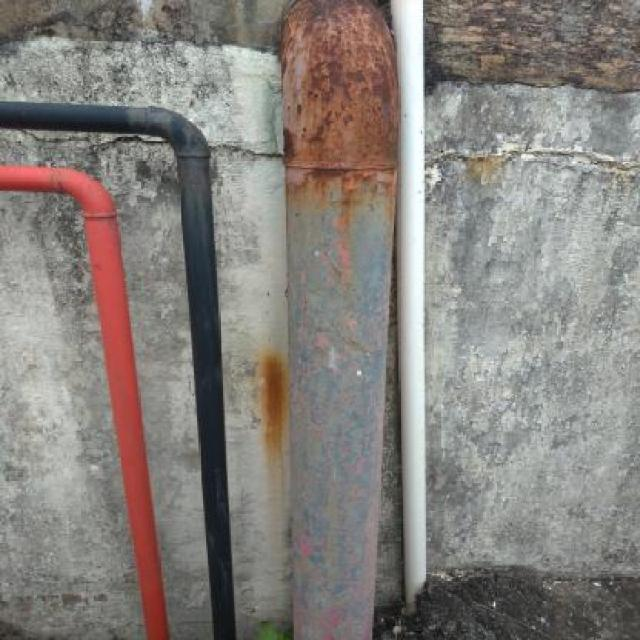gas: (3, 101, 240, 639), (277, 0, 402, 640), (3, 167, 172, 640), (392, 2, 429, 591)
